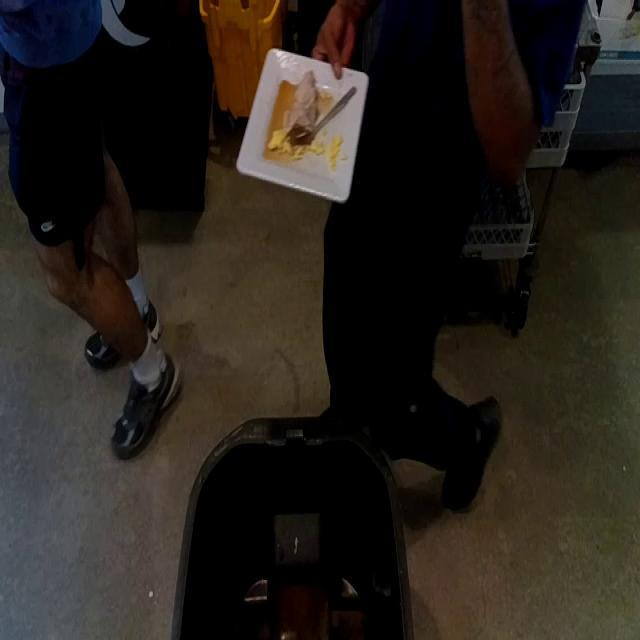Anorganik: (236, 45, 370, 216), (312, 84, 364, 138)
Organik: (262, 85, 332, 156)
